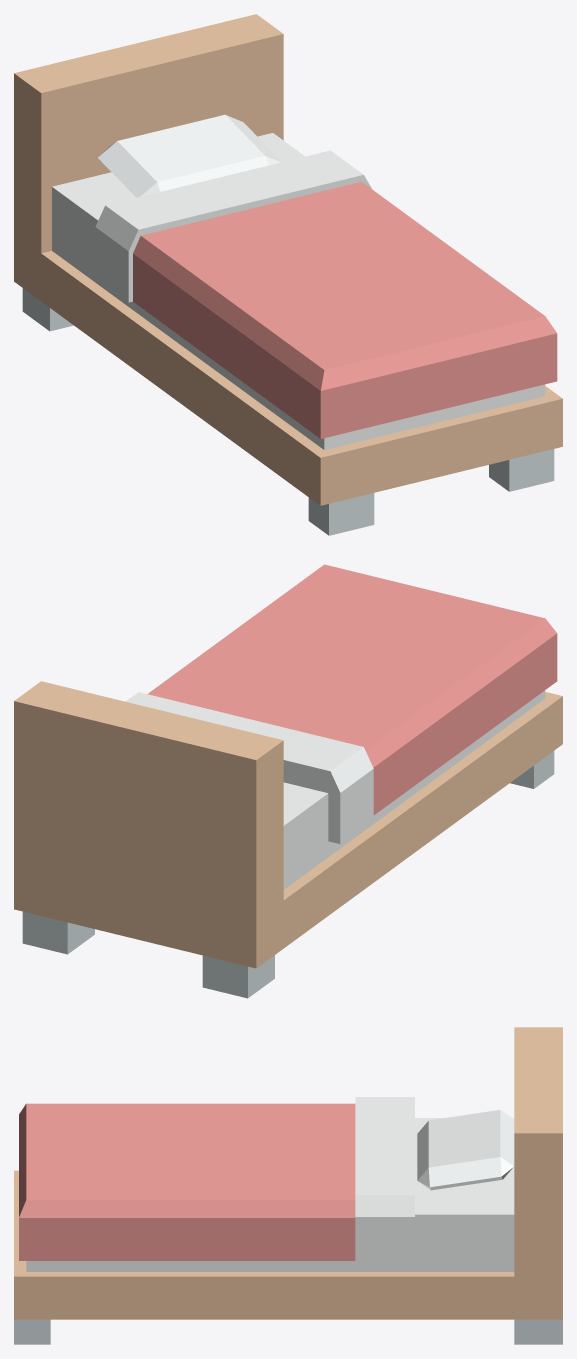
The model's file is kenney-bedSingle.glb.
3 views of the same model, one above another, from view 1: azimuth 30°, elevation 25°; view 2: azimuth 150°, elevation 25°; view 3: azimuth 270°, elevation 25° (orthographic). The views are drawn at different scales.
Parts seen in each view (by area): view 1: cover, Mesh bedSingle, pillow; view 2: Mesh bedSingle, cover; view 3: cover, Mesh bedSingle, pillow.
Part boxes in pixels (left/top/right/bottom): cover: left=95, top=150, right=557, bottom=438; Mesh bedSingle: left=14, top=14, right=562, bottom=535; pillow: left=98, top=114, right=281, bottom=197; Mesh bedSingle: left=14, top=681, right=562, bottom=998; cover: left=126, top=564, right=557, bottom=844; cover: left=19, top=1097, right=414, bottom=1262; Mesh bedSingle: left=14, top=1027, right=562, bottom=1344; pillow: left=417, top=1110, right=514, bottom=1190.
Size of the model in its own units: 0.9601 by 0.8999 by 2.08.
